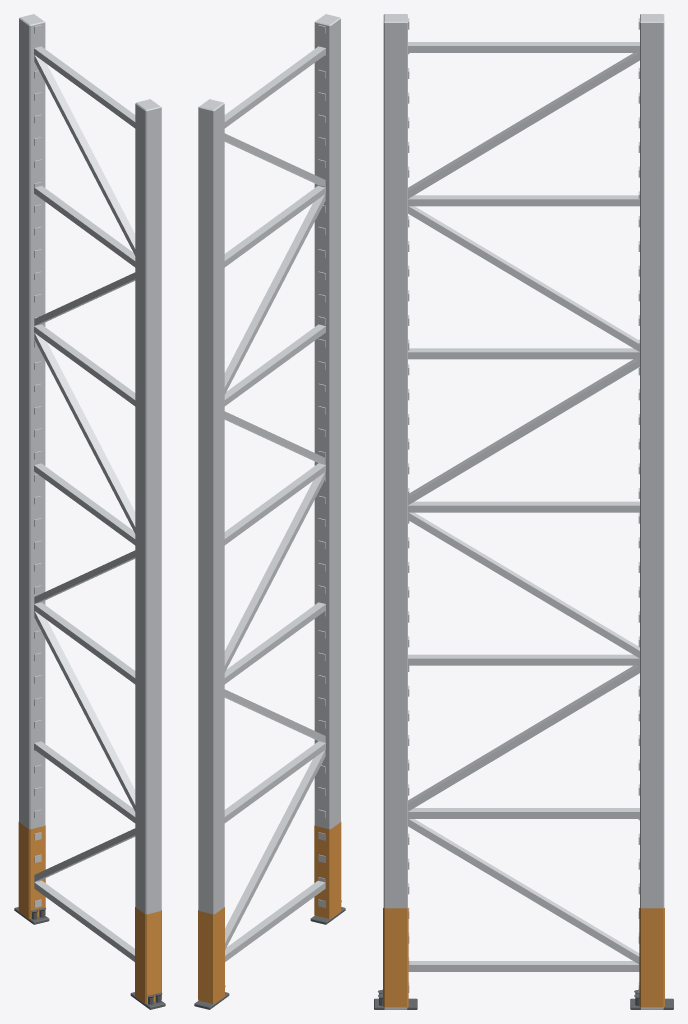
The model's file is pallet-rack-upright-frame-4-m.glb.
3 renders of one model, left to right at view 1: azimuth 30°, elevation 25°; view 2: azimuth 150°, elevation 25°; view 3: azimuth 270°, elevation 25°, orthographic. The views are drawn at different scales.
Parts seen in each view (by area): view 1: pallet-rack-upright-frame-4m; view 2: pallet-rack-upright-frame-4m; view 3: pallet-rack-upright-frame-4m.
Boxes of the visible parts, left/top/right/bottom form: pallet-rack-upright-frame-4m: left=14, top=14, right=165, bottom=1009; pallet-rack-upright-frame-4m: left=194, top=14, right=345, bottom=1009; pallet-rack-upright-frame-4m: left=374, top=14, right=673, bottom=1009.
Bounding box in the file's own units: 0.079 × 4 × 1.1.
